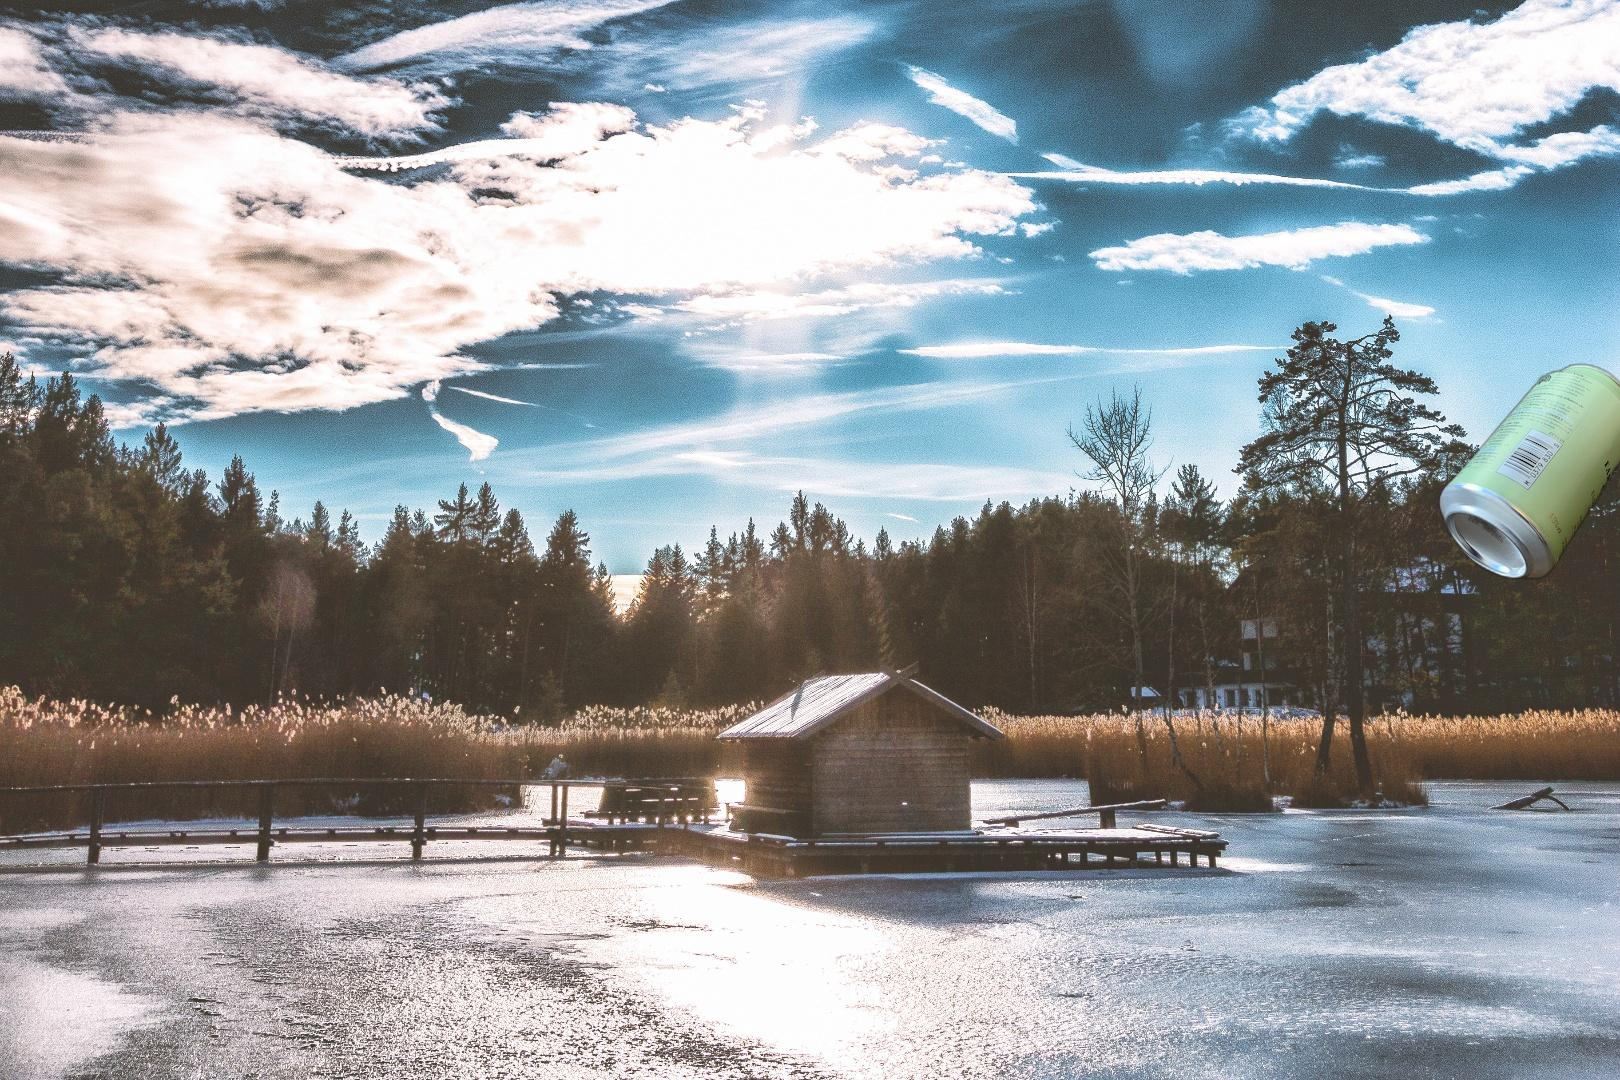metal-cans: (1436, 358, 1620, 585)
